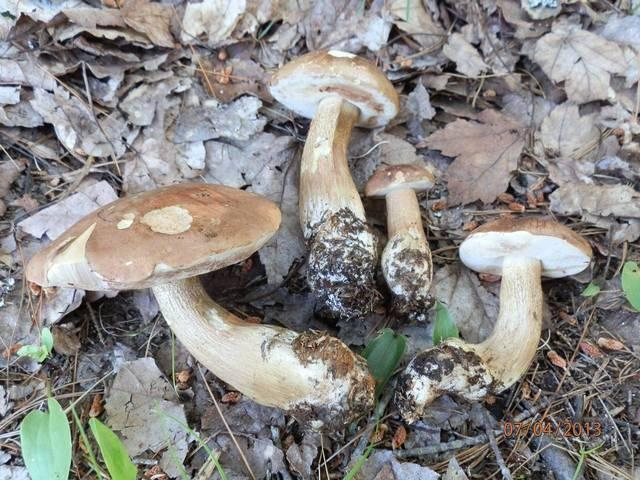Non-edible Mushroom: (24, 180, 377, 429), (395, 214, 593, 425), (266, 48, 400, 321), (362, 162, 435, 317)
